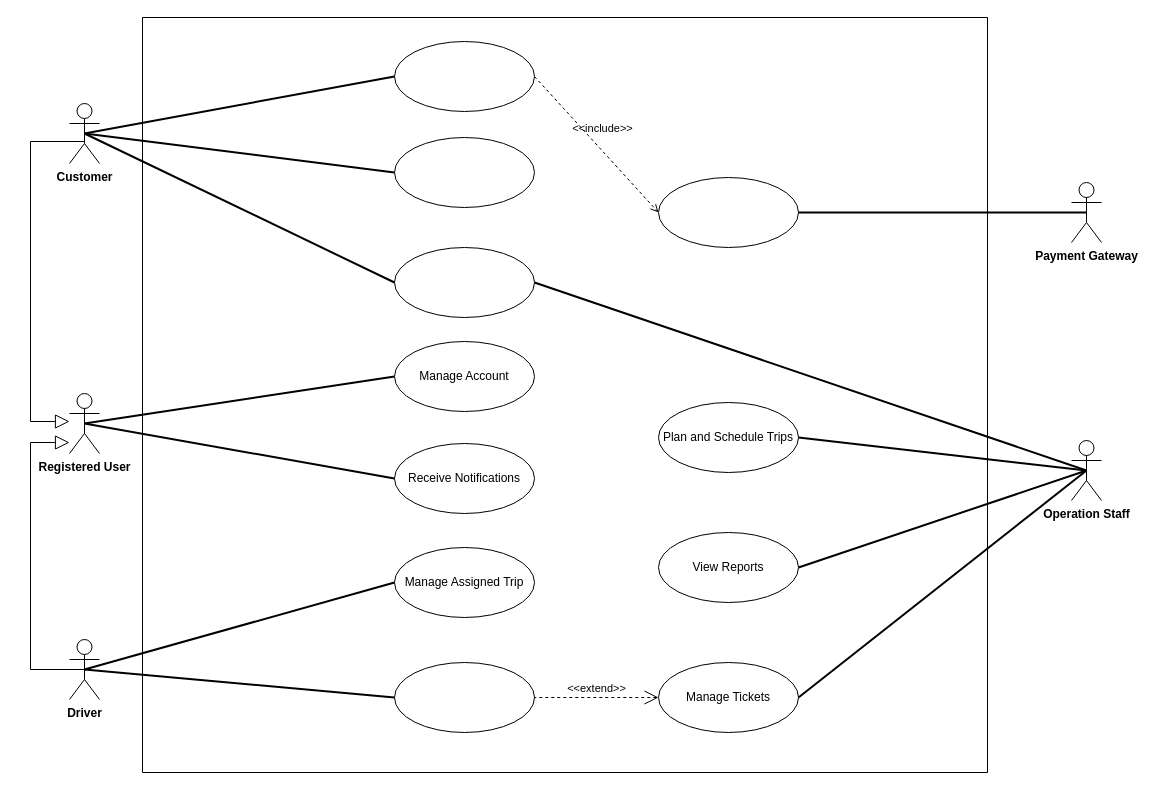
This 1155x790 diagram has some shape labels left out. The centre of each missing label's shape, as x and y in pixels:
"Book Ticket" goes at pixel 464 76.
"Cancel Ticket" goes at pixel 464 282.
"Make Payment" goes at pixel 728 212.
"View Booking History" goes at pixel 464 172.
"View Passeger Information" goes at pixel 464 697.
